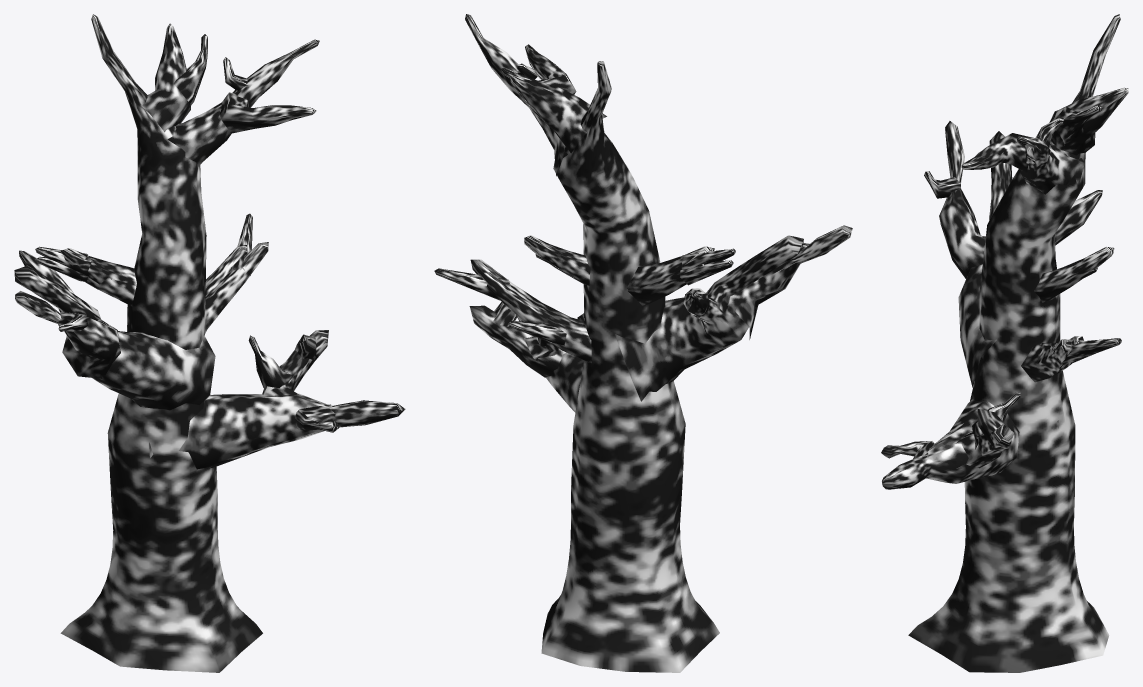
The model's file is CreTree06a.glb.
3 views of the same model, side by side, from view 1: azimuth 30°, elevation 25°; view 2: azimuth 150°, elevation 25°; view 3: azimuth 270°, elevation 25° (orthographic). The views are drawn at different scales.
Parts seen in each view (by area): view 1: CreTree06a_limbs; view 2: CreTree06a_limbs; view 3: CreTree06a_limbs.
Part boxes in pixels (x1=…): CreTree06a_limbs: x1=14, y1=14, x2=405, y2=672; CreTree06a_limbs: x1=434, y1=14, x2=852, y2=672; CreTree06a_limbs: x1=881, y1=14, x2=1128, y2=672.
Size of the model in its own units: 4.9 by 7.72 by 2.85.
Materials: 1 (1 with a texture image).
